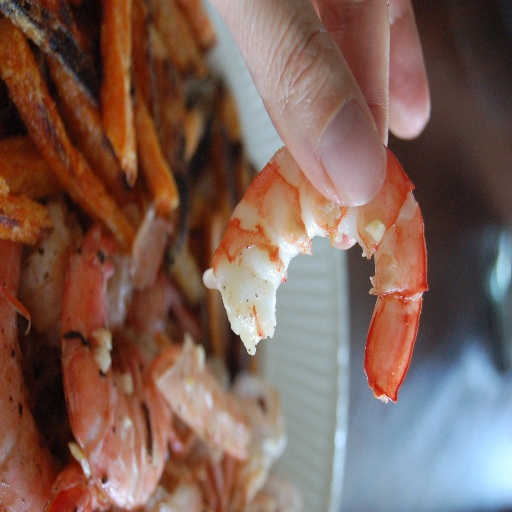hand: (207, 0, 431, 208)
